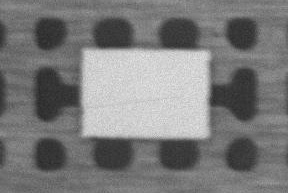DIE_CRACK: (128, 64, 273, 72)
